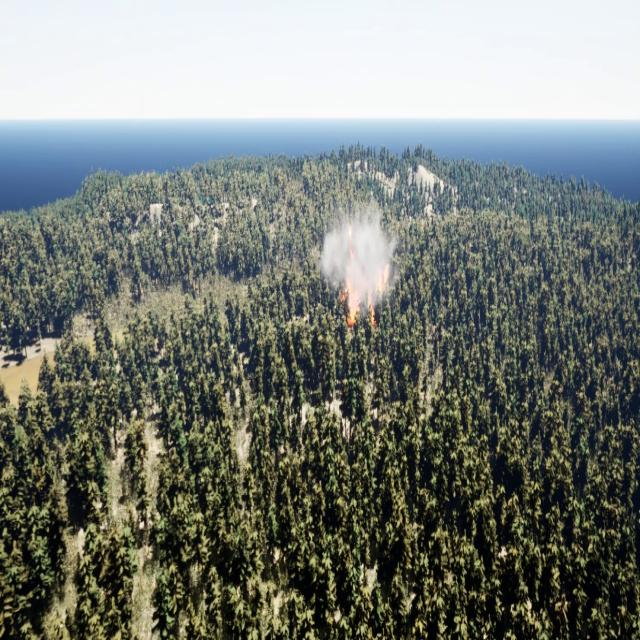fire: (346, 280, 378, 327)
smoke: (318, 212, 401, 316)
